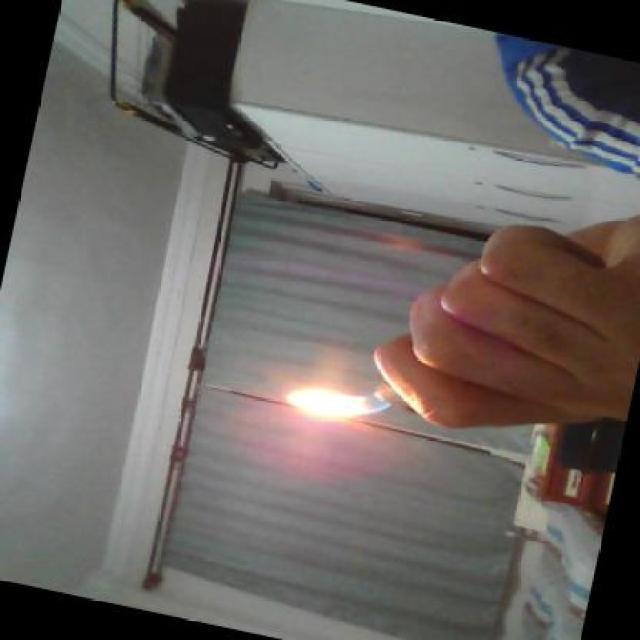Fire: (288, 364, 383, 438)
